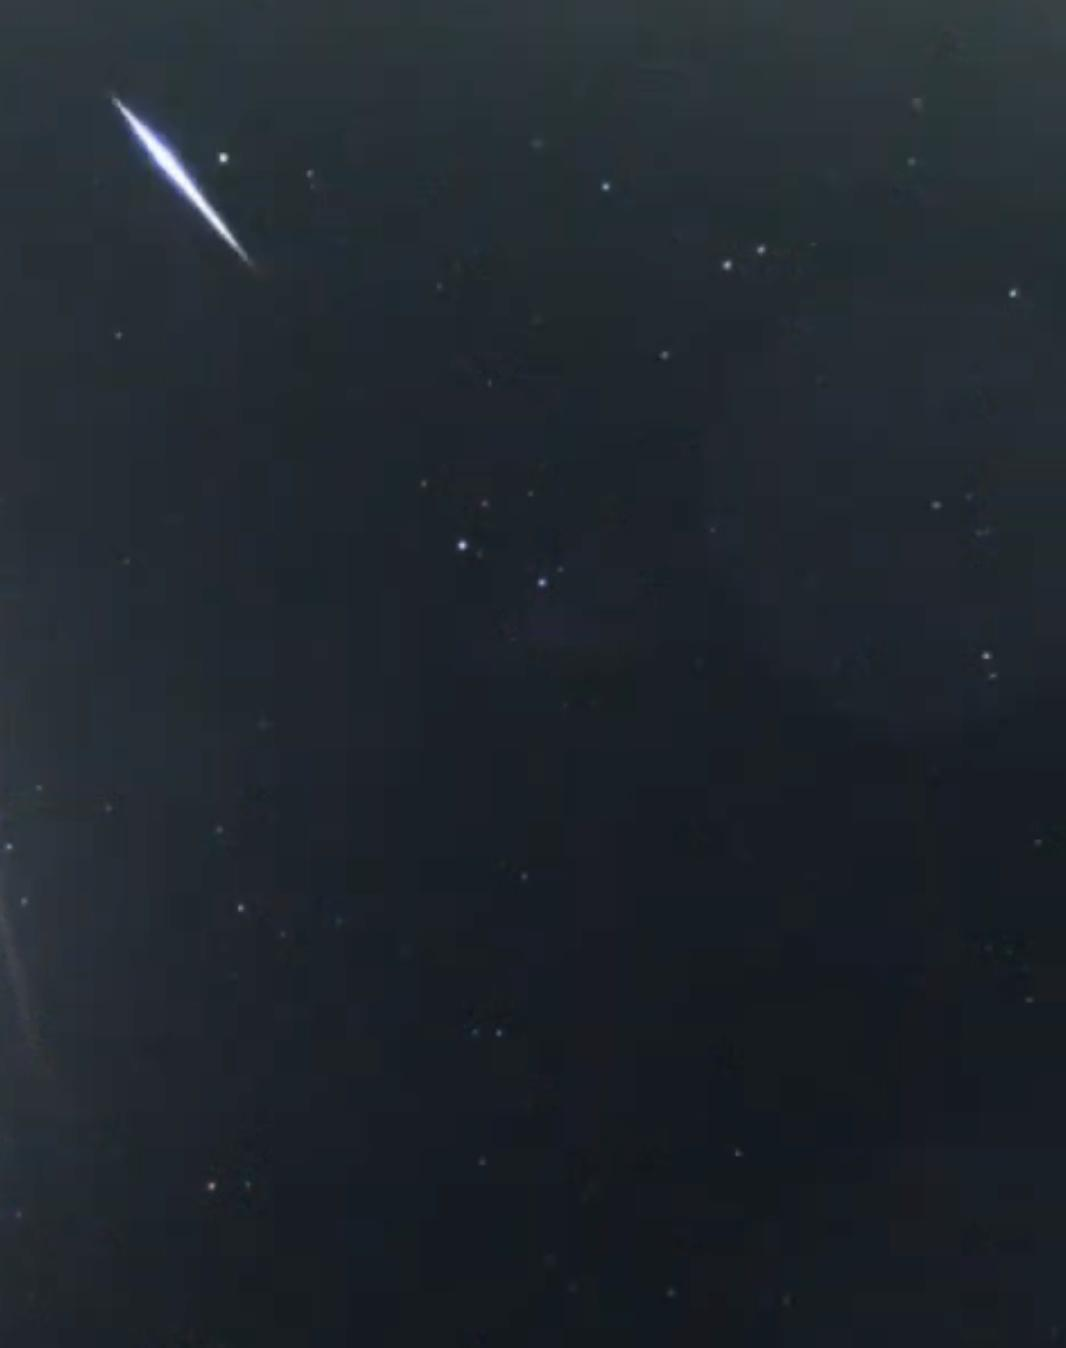meteorite: (79, 68, 302, 299)
